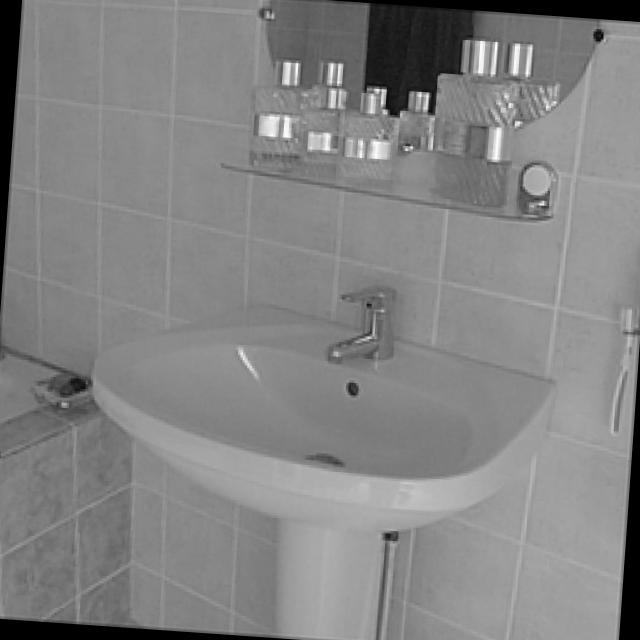mirror crop: (268, 0, 602, 135)
sink basin: (95, 299, 559, 640)
